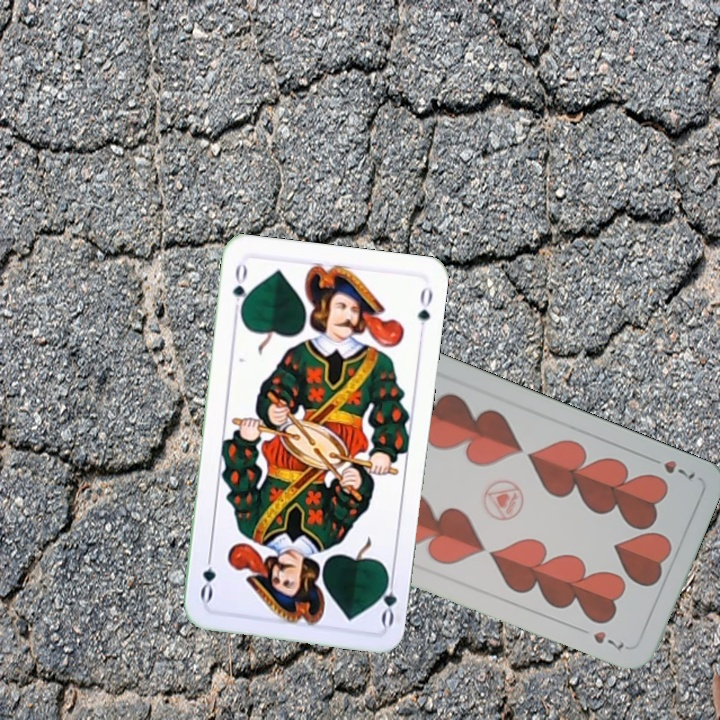GO: (374, 568, 400, 628), (228, 260, 252, 318)
H7: (644, 452, 698, 482)
